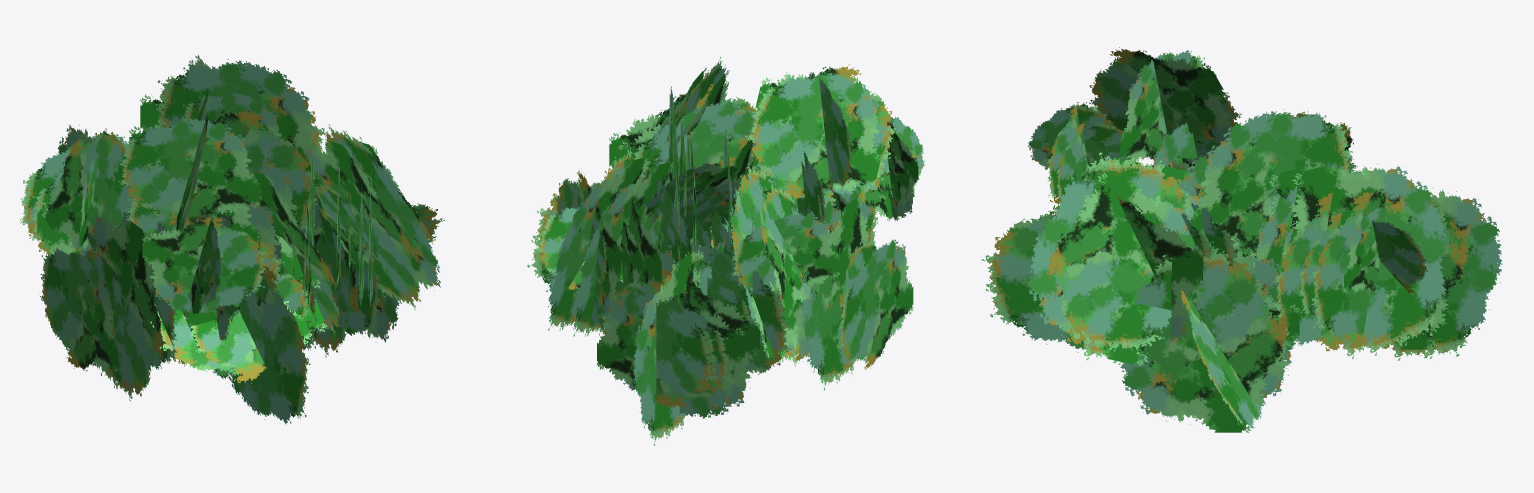
Rendered from leaf.obj.
3 renders of one model, left to right at view 1: azimuth 30°, elevation 25°; view 2: azimuth 150°, elevation 25°; view 3: azimuth 270°, elevation 25°, orthographic. The views are drawn at different scales.
Visible parts, largest first — view 1: 平面.181; view 2: 平面.181; view 3: 平面.181.
Boxes of the visible parts, <box> form: 平面.181: <box>20,54,444,424</box>; 平面.181: <box>527,57,924,445</box>; 平面.181: <box>980,47,1502,432</box>.
Bounding box in the file's own units: 0.6511 × 0.6029 × 0.8335.
Materials: 1 (1 with a texture image).
